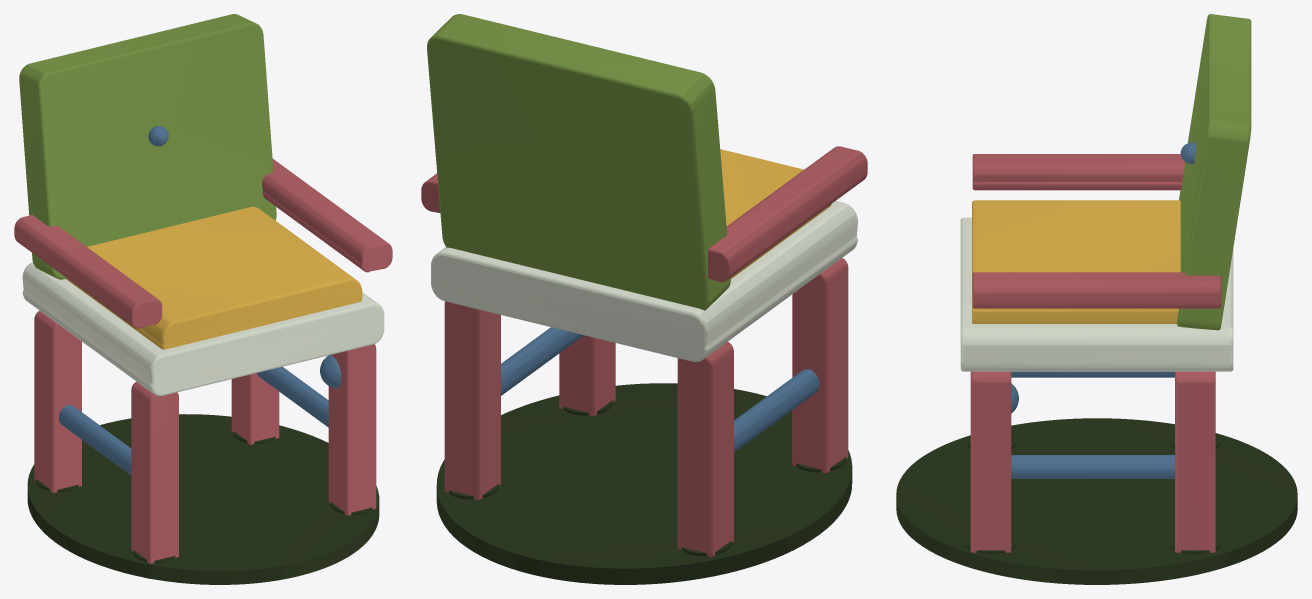
File: 0942_农业科技图鉴_鲑鱼鱼卵孵化器.glb
3 views of the same model, side by side, from view 1: azimuth 30°, elevation 25°; view 2: azimuth 150°, elevation 25°; view 3: azimuth 270°, elevation 25° (orthographic). The views are drawn at different scales.
Visible parts, largest first — view 1: card_0942; view 2: card_0942; view 3: card_0942.
Part boxes in pixels (box(x1,y1,x2,y2)): card_0942: box(14, 14, 392, 584); card_0942: box(421, 14, 867, 584); card_0942: box(896, 14, 1297, 584).
Size of the model in its own units: 0.7342 by 1 by 0.8187.
